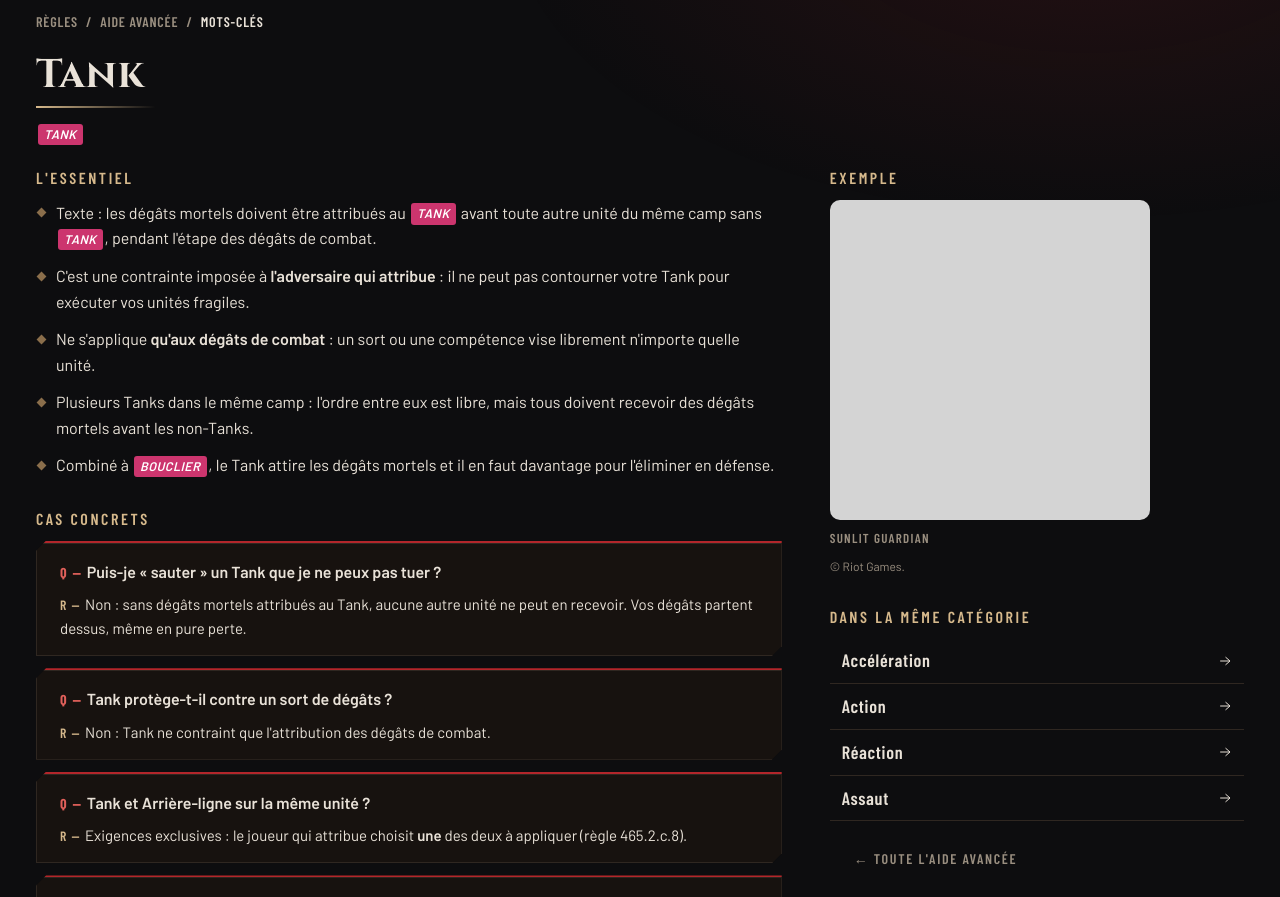
AdvancedTopicView › exemple : un clic sur la carte ouvre le zoom
The width and height of the screenshot is (1280, 897).
Click the button with class "sujet-example" at (990, 374), box [830,200,1150,548]
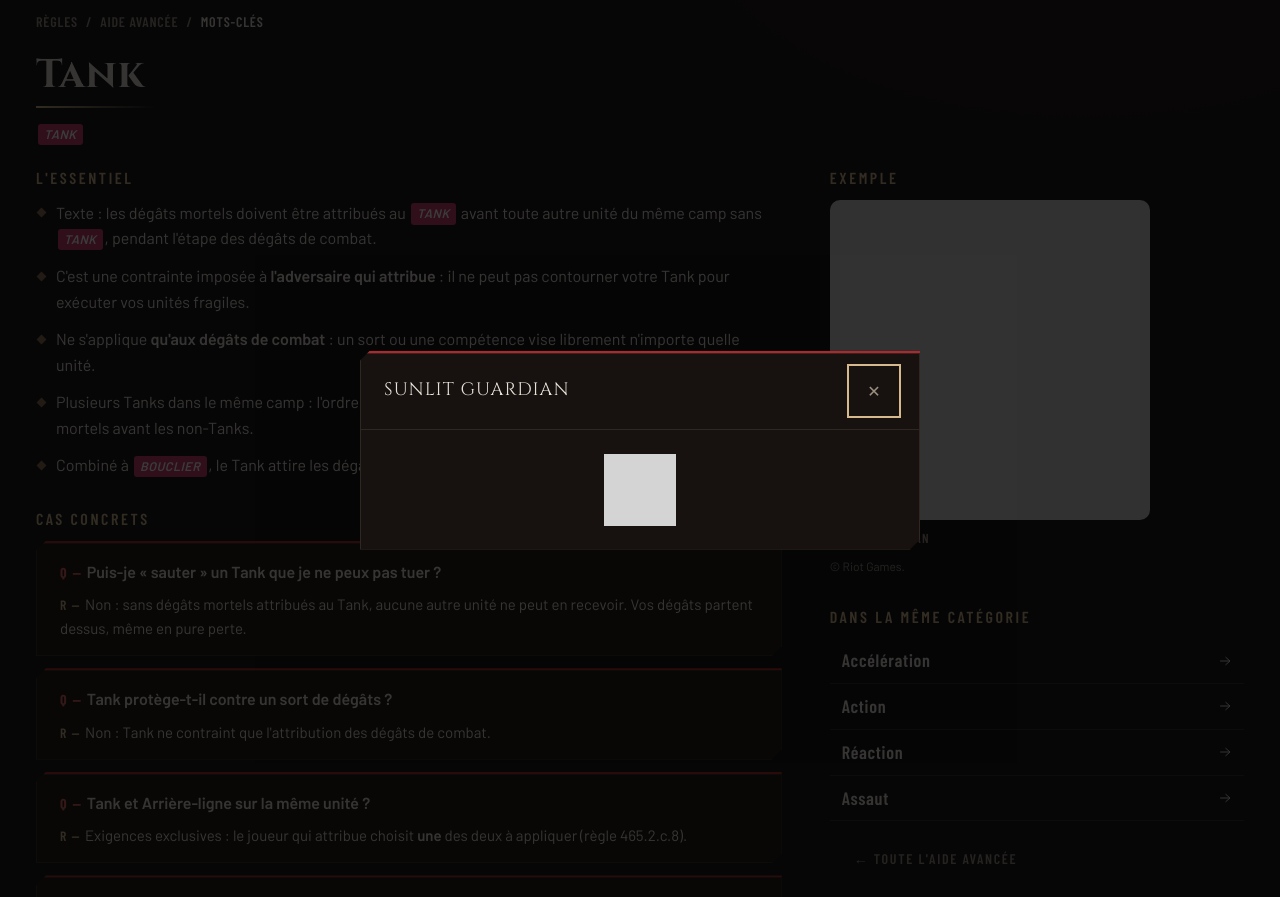
Check: the dialog is shown, box [360,350,920,550]
